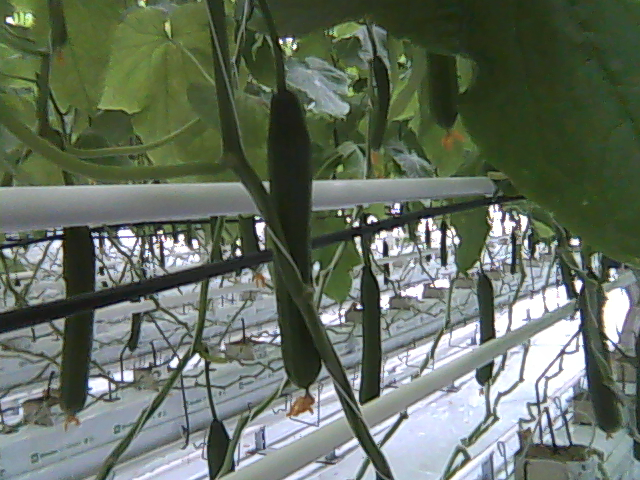concombre: (264, 80, 325, 418)
